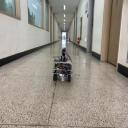cart: (53, 58, 72, 82)
